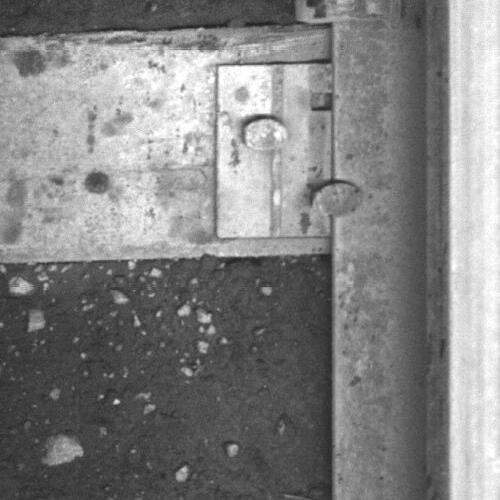crutch: (293, 1, 402, 24)
do: (215, 63, 362, 238)
rail: (448, 1, 500, 500)
tie_wood: (1, 36, 331, 254)
